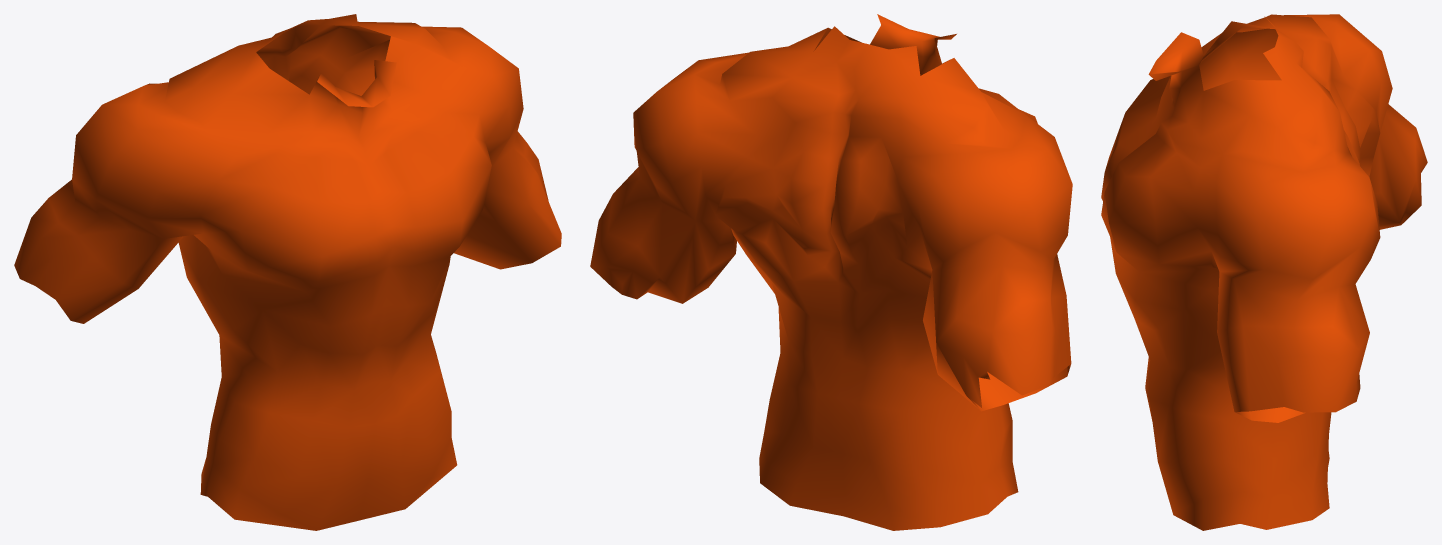
Rendered from remera 1.fbx.
3 views of the same model, side by side, from view 1: azimuth 30°, elevation 25°; view 2: azimuth 150°, elevation 25°; view 3: azimuth 270°, elevation 25° (orthographic).
Visible parts, largest first — view 1: char.000; view 2: char.000; view 3: char.000.
Boxes of the visible parts, bbox=[...] form: char.000: bbox=[14, 14, 561, 530]; char.000: bbox=[590, 14, 1072, 530]; char.000: bbox=[1101, 14, 1427, 530].
Size of the model in its own units: 73.07 by 66.6 by 42.65.
